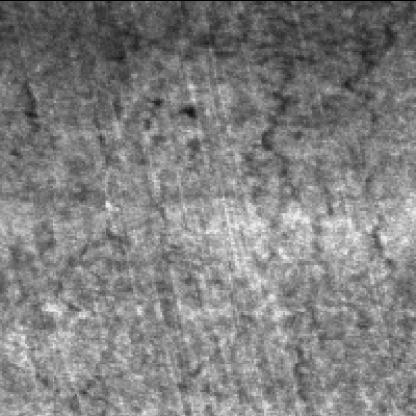crazing: (247, 60, 402, 408), (100, 2, 412, 66)
